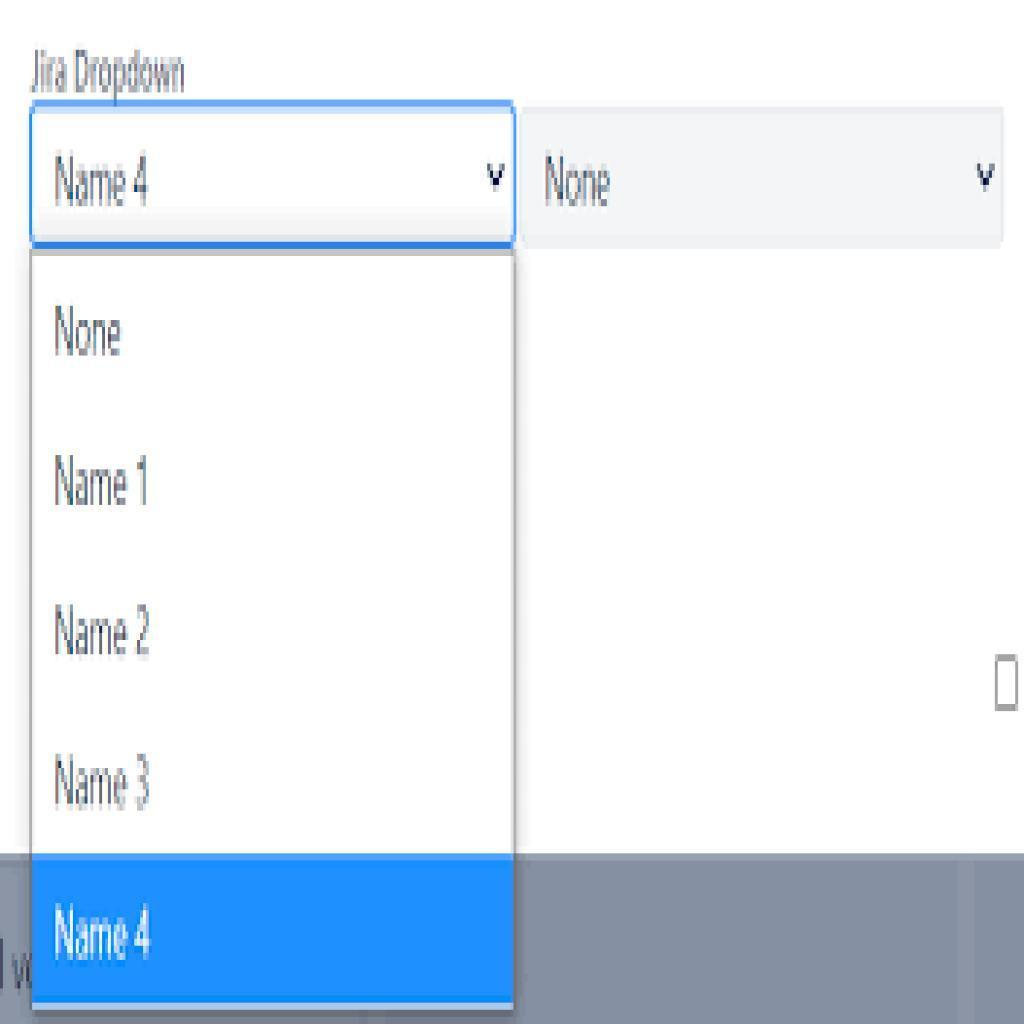checkbox: (993, 656, 1021, 714)
dropdown: (517, 105, 1006, 254), (30, 101, 516, 250)
